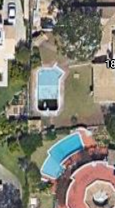pool: (48, 137, 82, 175)
